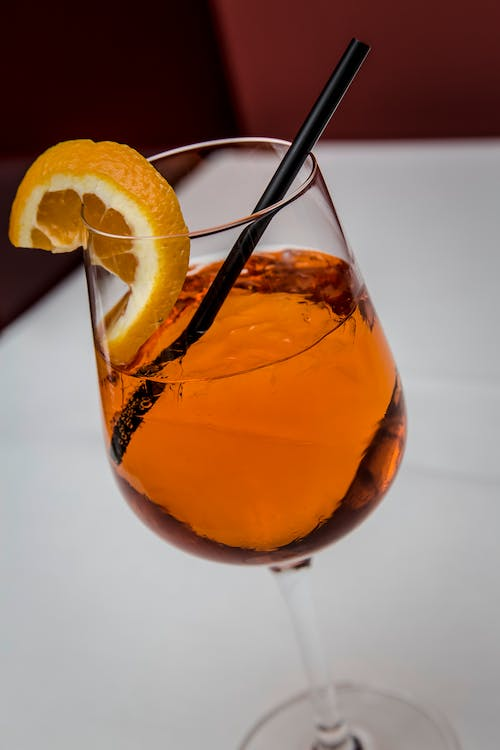alcohol: (78, 135, 462, 750)
